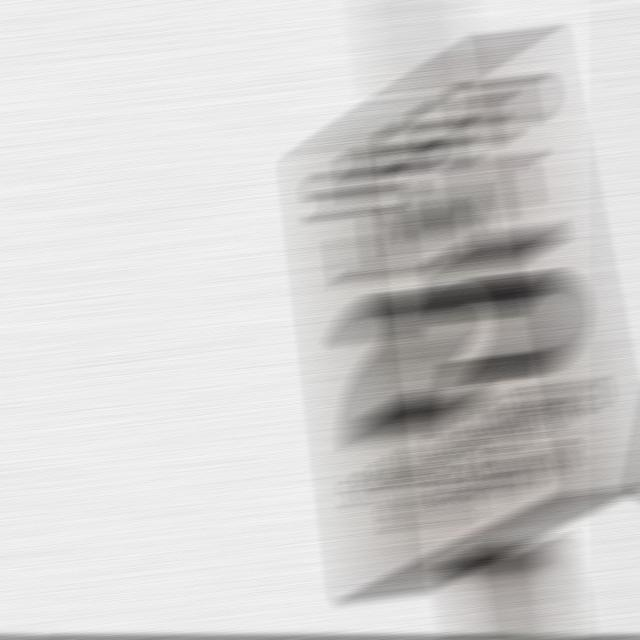speedLimit25: (307, 33, 631, 594)
